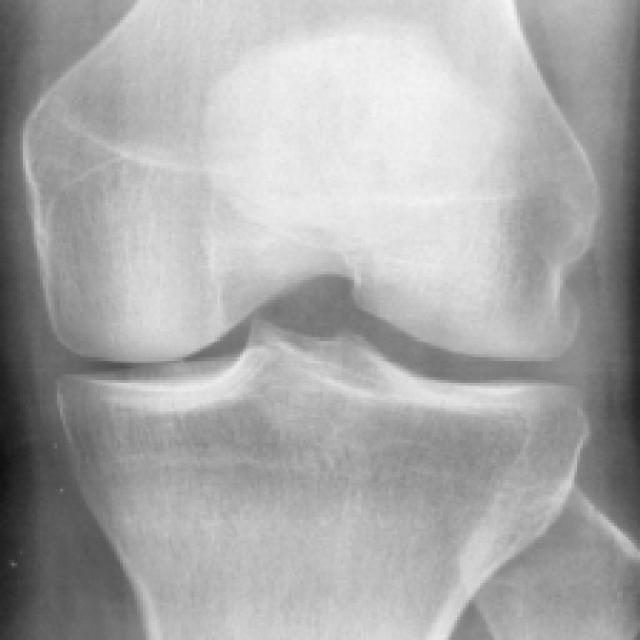femur: (21, 1, 606, 364)
tibia: (56, 317, 593, 637)
